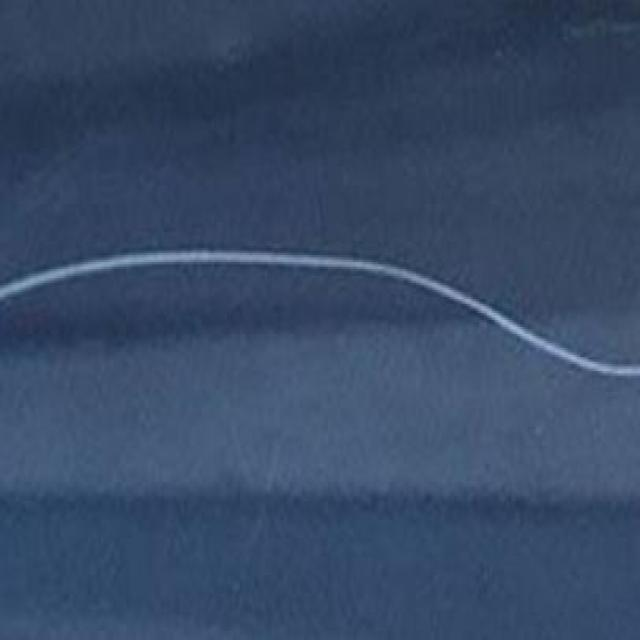scratch: (6, 246, 640, 385)
